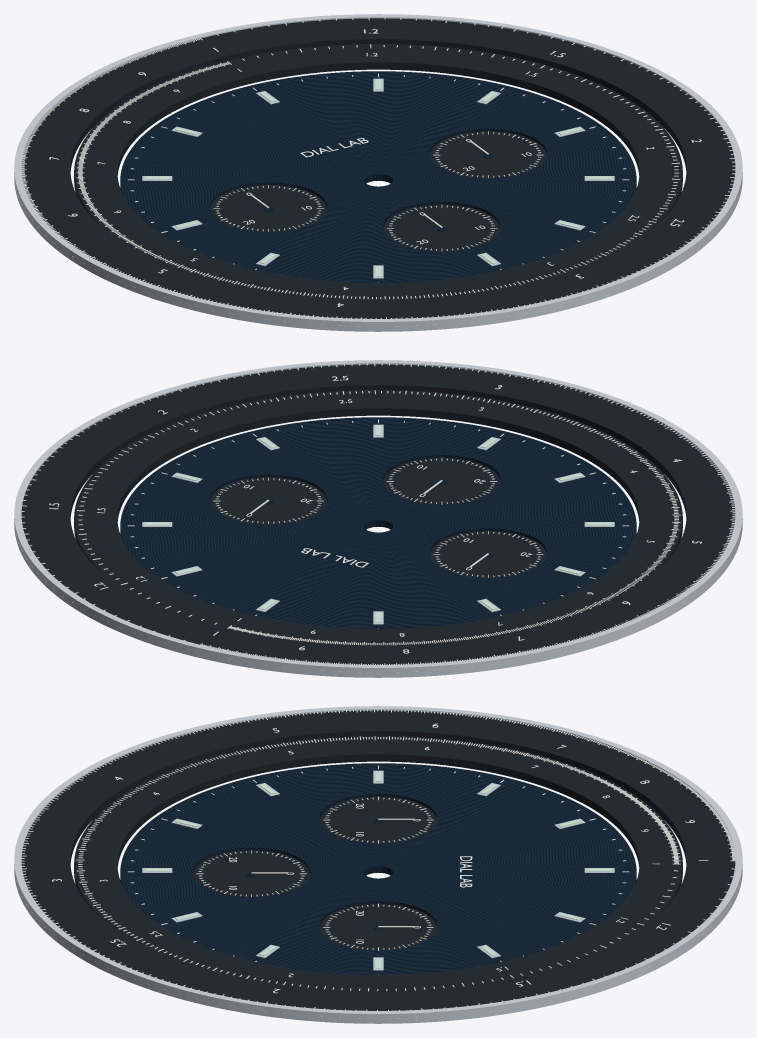
Rendered from assembly-animated.glb.
3 renders of one model, top to bottom at view 1: azimuth 30°, elevation 25°; view 2: azimuth 150°, elevation 25°; view 3: azimuth 270°, elevation 25°, orthographic.
Visible parts, largest first — view 1: DIAL_WITH_CENTRE_BORE, ROTATING_BEZEL, FIXED_CHAPTER, bezel-metal-rim, recessed-register.001, recessed-register, recessed-register.002; view 2: DIAL_WITH_CENTRE_BORE, ROTATING_BEZEL, FIXED_CHAPTER, bezel-metal-rim, recessed-register.001, recessed-register, recessed-register.002; view 3: DIAL_WITH_CENTRE_BORE, ROTATING_BEZEL, FIXED_CHAPTER, bezel-metal-rim, recessed-register.002, recessed-register, recessed-register.001.
Boxes of the visible parts, x1,y1,x2,y2 form: DIAL_WITH_CENTRE_BORE: [120, 71, 636, 282]; ROTATING_BEZEL: [22, 18, 735, 318]; FIXED_CHAPTER: [74, 44, 682, 299]; bezel-metal-rim: [14, 14, 742, 331]; recessed-register.001: [430, 130, 546, 178]; recessed-register: [210, 184, 326, 231]; recessed-register.002: [383, 204, 500, 251]; DIAL_WITH_CENTRE_BORE: [120, 417, 636, 628]; ROTATING_BEZEL: [21, 364, 735, 664]; FIXED_CHAPTER: [74, 390, 682, 645]; bezel-metal-rim: [14, 360, 742, 677]; recessed-register.001: [210, 476, 326, 524]; recessed-register: [430, 530, 546, 577]; recessed-register.002: [383, 457, 500, 504]; DIAL_WITH_CENTRE_BORE: [120, 763, 636, 974]; ROTATING_BEZEL: [21, 710, 735, 1010]; FIXED_CHAPTER: [74, 736, 682, 991]; bezel-metal-rim: [14, 706, 742, 1023]; recessed-register.002: [193, 849, 309, 897]; recessed-register: [320, 796, 436, 843]; recessed-register.001: [320, 903, 436, 950].
Bounding box in the file's own units: 40.23 × 1.15 × 40.23.
5 materials, 1 textured.
